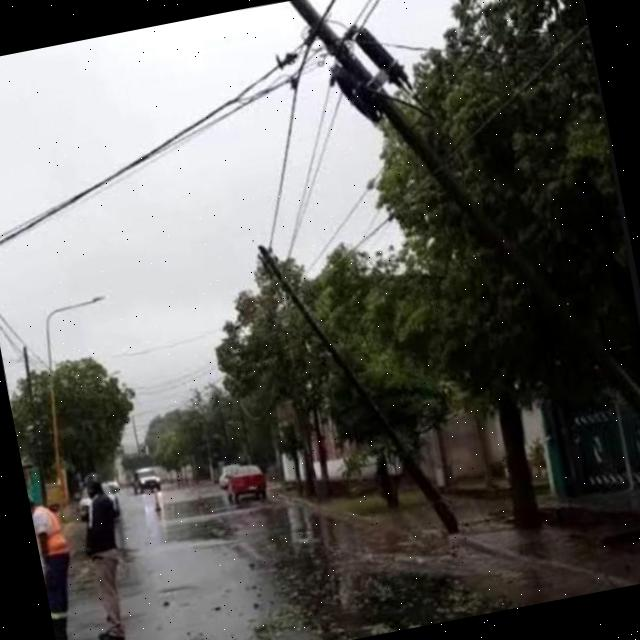Broken Pole: (289, 0, 640, 415), (256, 240, 463, 536)
